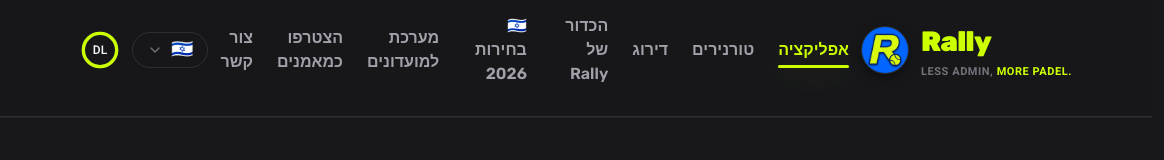
Test: nav order and names › the ball link carries source=nav in navigation state, so a nav open is not logged as direct
What coordinates should you click on to do the following:
click the link "הכדור של Rally"
I would click on:
 (587, 50)
Its box is [565,16,608,83].
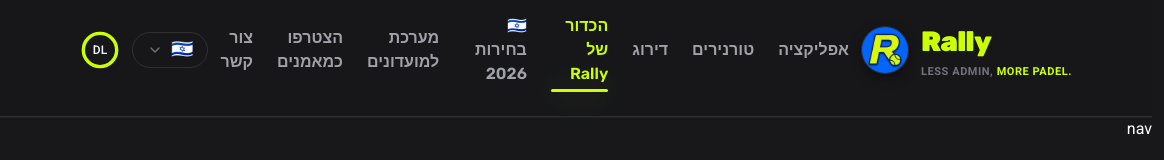
Result: the text with test id "probe" reads "nav" at [1127,117,1152,141]
